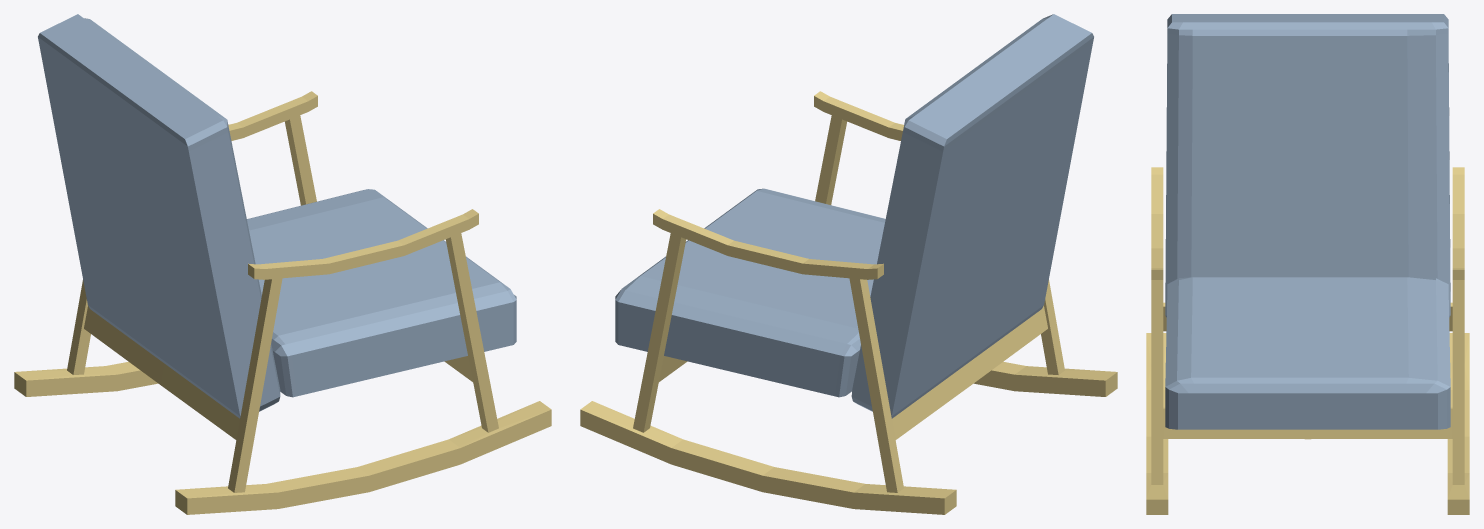
Rendered from chair.fbx.
3 renders of one model, left to right at view 1: azimuth 30°, elevation 25°; view 2: azimuth 150°, elevation 25°; view 3: azimuth 270°, elevation 25°, orthographic. The views are drawn at different scales.
Parts seen in each view (by area): view 1: Cube; view 2: Cube; view 3: Cube.
Boxes of the visible parts, x1=… form: Cube: x1=14, y1=14, x2=551, y2=514; Cube: x1=580, y1=14, x2=1117, y2=514; Cube: x1=1146, y1=14, x2=1469, y2=514.
Size of the model in its own units: 1777 by 1836 by 1459.
